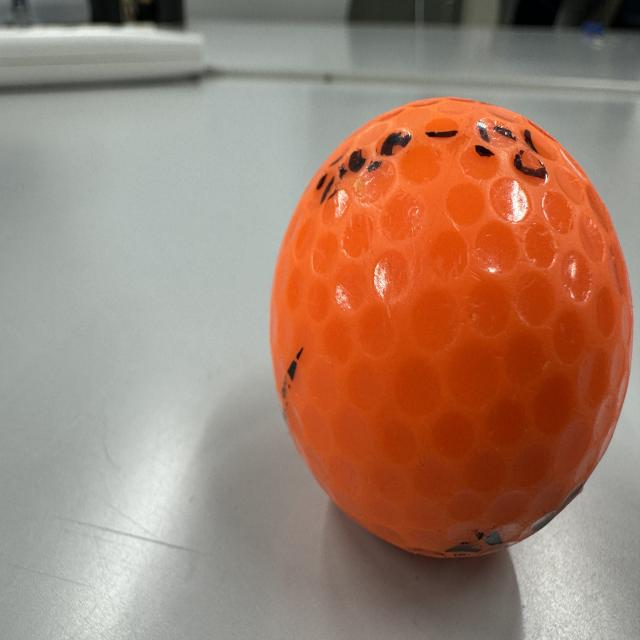ball: (256, 81, 640, 581)
